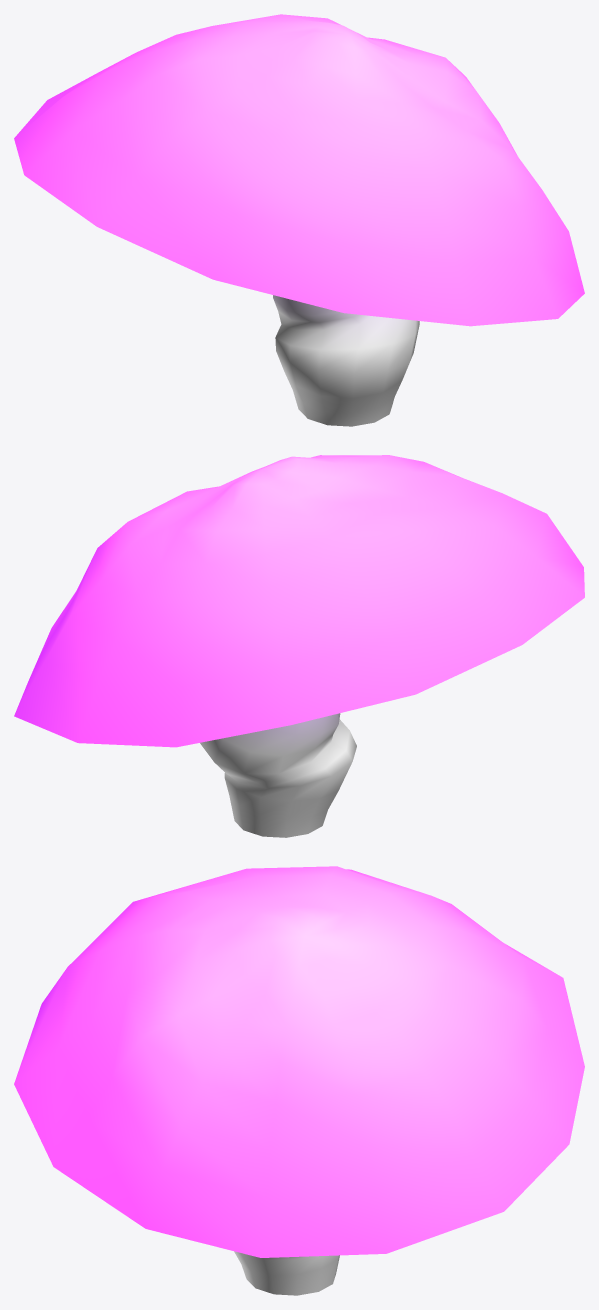
Rendered from mushroom_7.glb.
The picture shows the model from 3 angles, top to bottom: view 1: azimuth 30°, elevation 25°; view 2: azimuth 150°, elevation 25°; view 3: azimuth 270°, elevation 25°; orthographic projection. The views are drawn at different scales.
Visible parts, largest first — view 1: geo1; view 2: geo1; view 3: geo1.
Boxes of the visible parts, x1,y1,x2,y2 form: geo1: (14, 14, 584, 426); geo1: (14, 455, 584, 837); geo1: (14, 866, 584, 1295).
Size of the model in its own units: 0.2988 by 0.2134 by 0.3137.
